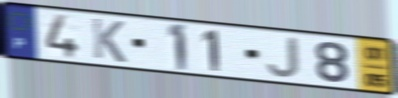1: (165, 23, 190, 73), (201, 29, 222, 73)
4: (44, 12, 82, 60)
8: (313, 40, 352, 84)
J: (265, 36, 302, 80)
K: (90, 16, 128, 65)
